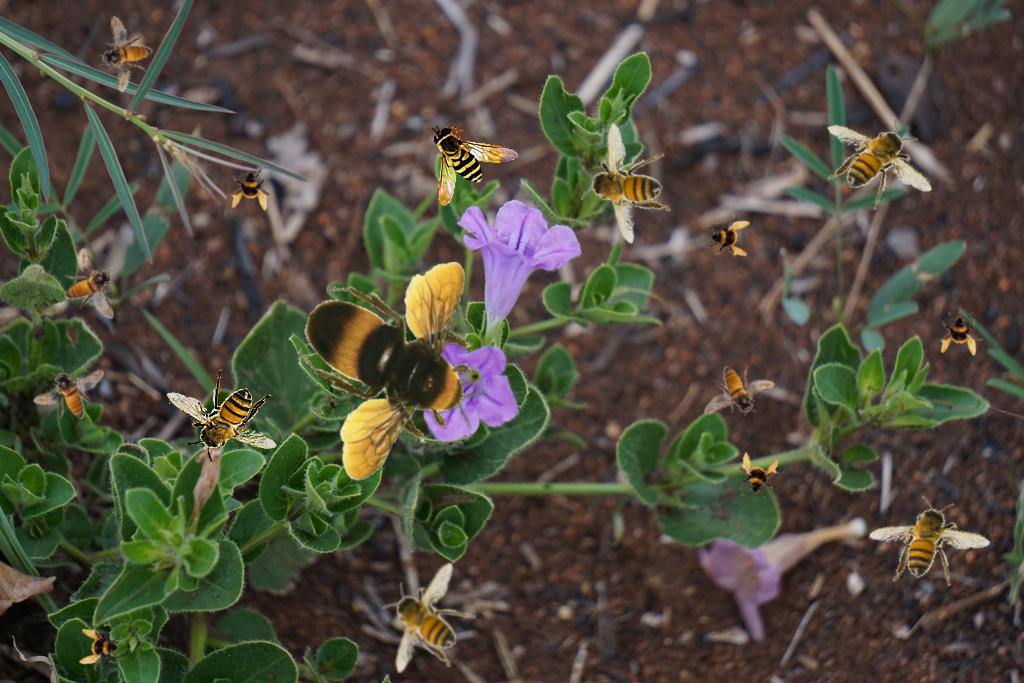Bee: (297, 262, 488, 482), (555, 108, 696, 254), (862, 478, 1001, 608), (819, 110, 940, 216), (166, 369, 277, 463), (382, 562, 476, 673), (431, 124, 519, 206), (90, 15, 160, 98), (33, 369, 104, 419), (65, 248, 115, 319), (704, 366, 775, 416), (731, 451, 781, 501), (230, 167, 274, 211), (939, 312, 983, 356), (706, 214, 750, 258), (79, 627, 123, 671)
